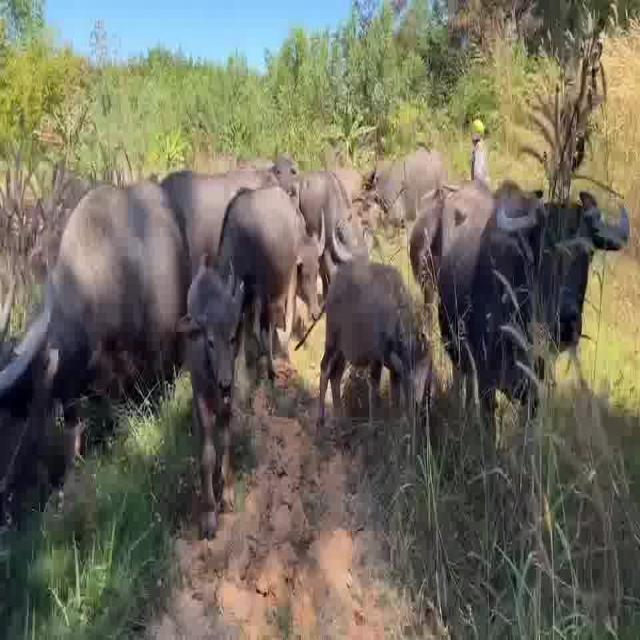buffalo: (1, 175, 216, 532), (406, 170, 627, 436), (311, 234, 410, 423), (219, 183, 309, 380), (298, 169, 375, 259)
